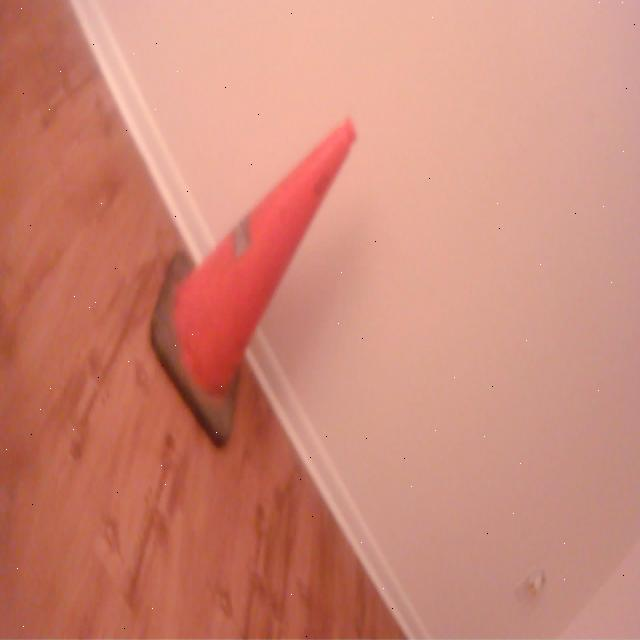traffic cone: (145, 106, 365, 453)
